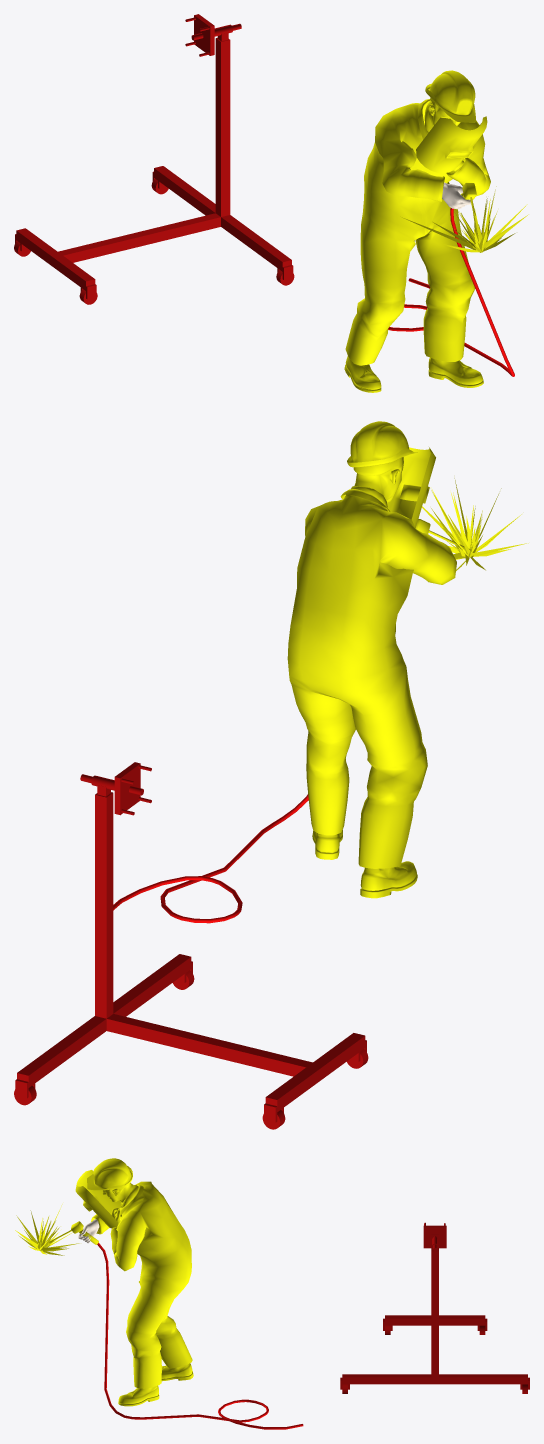
The picture shows the model from 3 angles, top to bottom: view 1: azimuth 30°, elevation 25°; view 2: azimuth 150°, elevation 25°; view 3: azimuth 270°, elevation 25°; orthographic projection. The views are drawn at different scales.
Visible parts, largest first — view 1: group_0, cs; view 2: group_0, cs; view 3: group_0, cs.
Part boxes in pixels (left/top/right/bottom): group_0: left=344, top=70, right=528, bottom=392; cs: left=16, top=14, right=291, bottom=290; group_0: left=113, top=421, right=528, bottom=923; cs: left=17, top=762, right=365, bottom=1111; group_0: left=15, top=1158, right=303, bottom=1429; cs: left=342, top=1222, right=527, bottom=1384.
Bounding box in the file's own units: 60.33 × 67.14 × 133.
